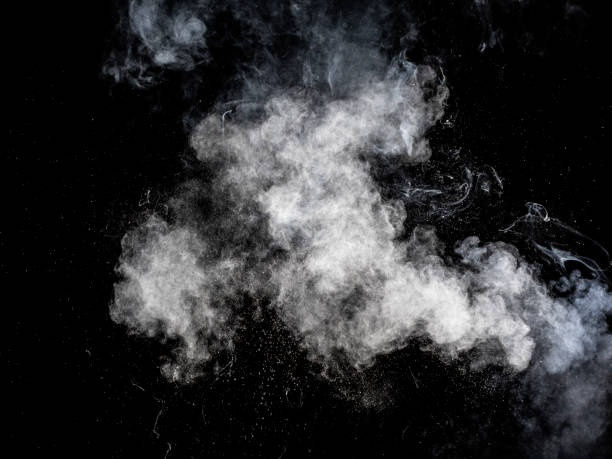smoke: (193, 69, 422, 360), (424, 228, 612, 436), (107, 212, 234, 381)
